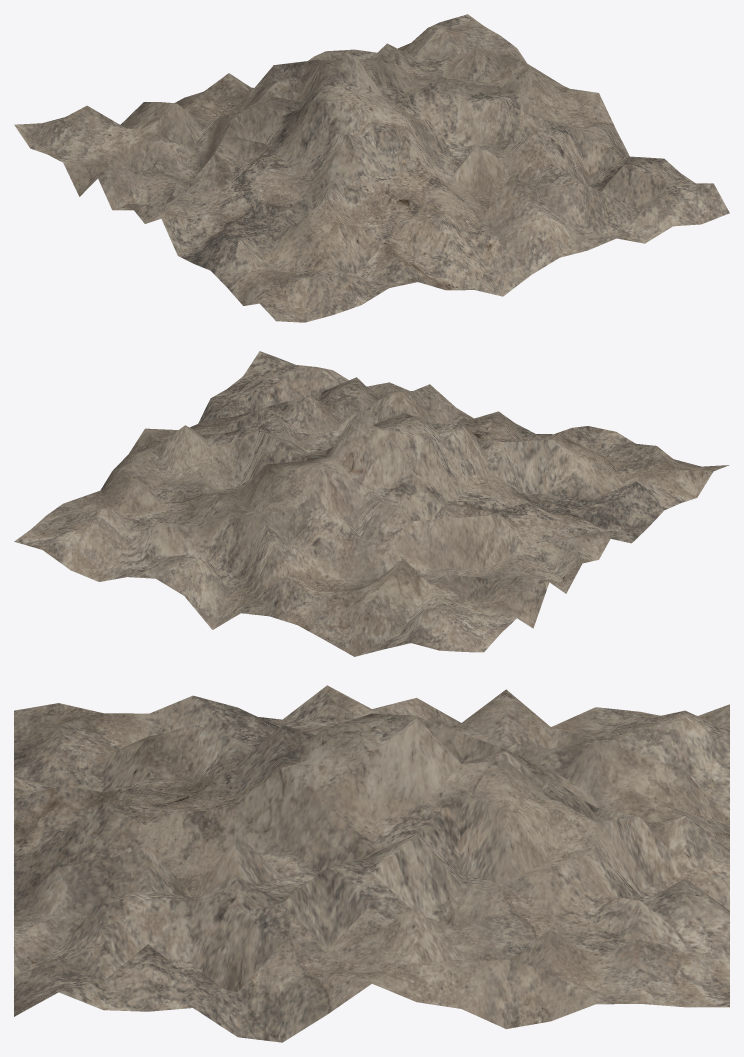
File: Rock2.dae
The picture shows the model from 3 angles, top to bottom: view 1: azimuth 30°, elevation 25°; view 2: azimuth 150°, elevation 25°; view 3: azimuth 270°, elevation 25°; orthographic projection. The views are drawn at different scales.
Parts seen in each view (by area): view 1: Rock2; view 2: Rock2; view 3: Rock2.
Boxes of the visible parts, bbox=[...] form: Rock2: bbox=[14, 14, 729, 322]; Rock2: bbox=[14, 351, 729, 656]; Rock2: bbox=[14, 685, 729, 1042].
Size of the model in its own units: 12 by 12 by 3.49.
Materials: 1 (1 with a texture image).
